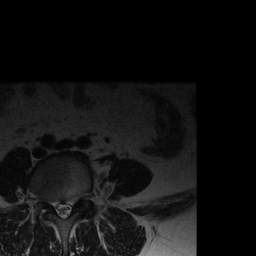CCS_normal: (60, 197, 66, 223)
LFS_severe_stenosis: (73, 189, 80, 207)
LLS_normal: (66, 193, 73, 216)
RFS_severe_stenosis: (44, 191, 52, 213)
RLS_normal: (53, 193, 59, 217)
